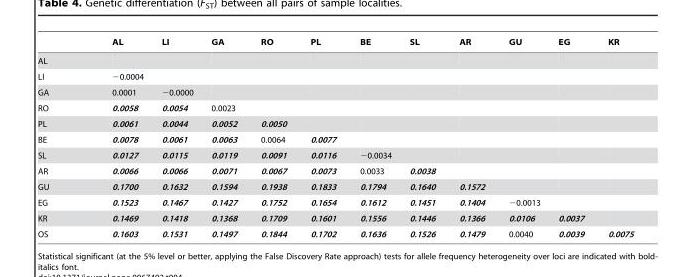table: (37, 37, 634, 238)
table column: (79, 37, 151, 238), (347, 37, 399, 238), (496, 37, 548, 238), (151, 37, 201, 238), (248, 37, 298, 238), (298, 37, 347, 238), (447, 37, 496, 238), (399, 37, 447, 238), (201, 37, 248, 238), (548, 37, 595, 238), (37, 37, 79, 238), (595, 37, 634, 238)
table column header: (37, 37, 634, 51)
table projected row header: (37, 51, 634, 68)
table row: (37, 51, 634, 68), (37, 68, 634, 84), (37, 84, 634, 100), (37, 115, 634, 131), (37, 131, 634, 147), (37, 147, 634, 163), (37, 178, 634, 194), (37, 194, 634, 210), (37, 210, 634, 226), (37, 100, 634, 115), (37, 163, 634, 178), (37, 37, 634, 51), (37, 226, 634, 238)
